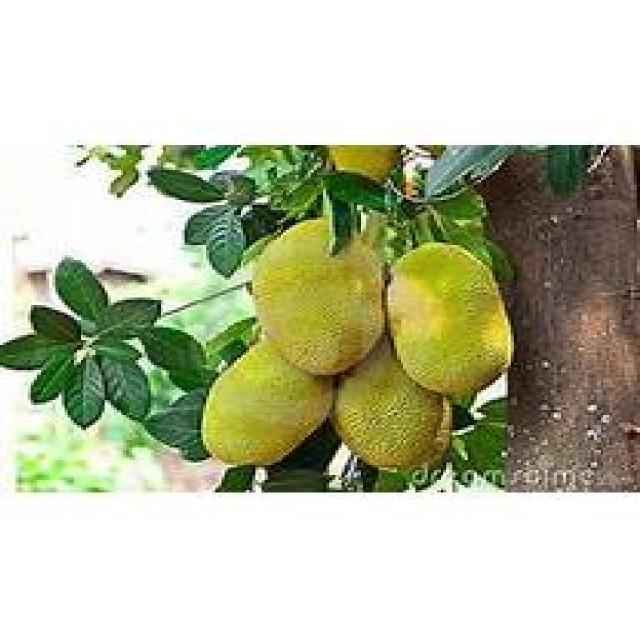Fruit: (379, 228, 526, 410)
